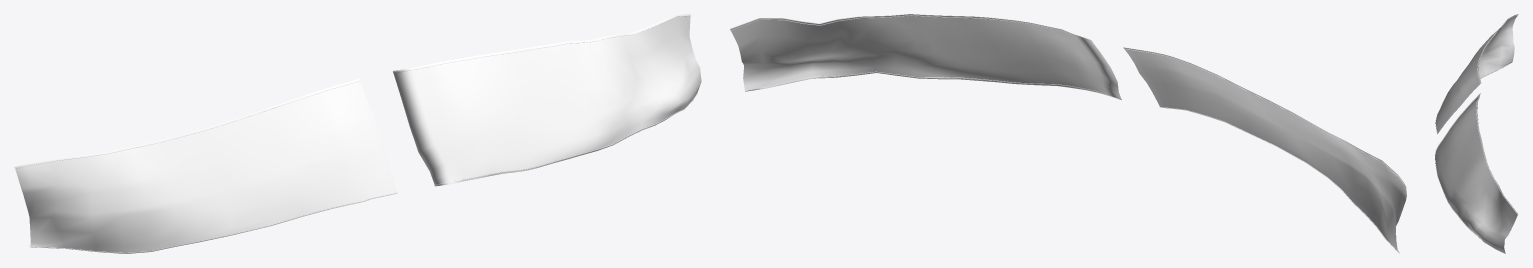
Rendered from Jac_Flic_TOP.glb.
3 renders of one model, left to right at view 1: azimuth 30°, elevation 25°; view 2: azimuth 150°, elevation 25°; view 3: azimuth 270°, elevation 25°, orthographic. The views are drawn at different scales.
Visible parts, largest first — view 1: Jac_Flic_TOP_FACE.001, Jac_Rope_Flic_TOP_FACE.001; view 2: Jac_Flic_TOP_FACE.001, Jac_Rope_Flic_TOP_FACE.001; view 3: Jac_Flic_TOP_FACE.001, Jac_Rope_Flic_TOP_FACE.001.
Boxes of the visible parts, box(x1,y1,x2,y2) form: Jac_Flic_TOP_FACE.001: box(14, 14, 701, 253); Jac_Rope_Flic_TOP_FACE.001: box(16, 15, 697, 253); Jac_Flic_TOP_FACE.001: box(730, 14, 1406, 252); Jac_Rope_Flic_TOP_FACE.001: box(730, 15, 1403, 253); Jac_Flic_TOP_FACE.001: box(1435, 14, 1518, 253); Jac_Rope_Flic_TOP_FACE.001: box(1435, 15, 1517, 253).
Size of the model in its own units: 0.7096 by 0.118 by 0.1303.
Materials: 2 (2 with a texture image).
